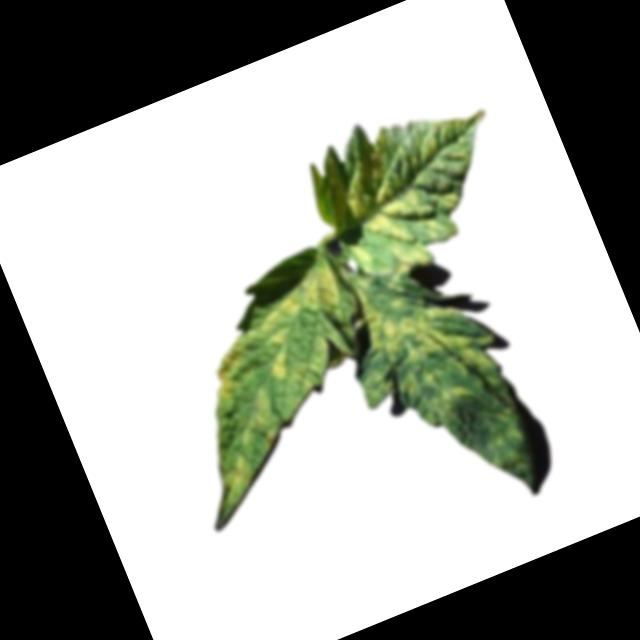Leaf_Mold: (130, 243, 406, 533), (334, 244, 557, 539), (294, 80, 523, 291)
